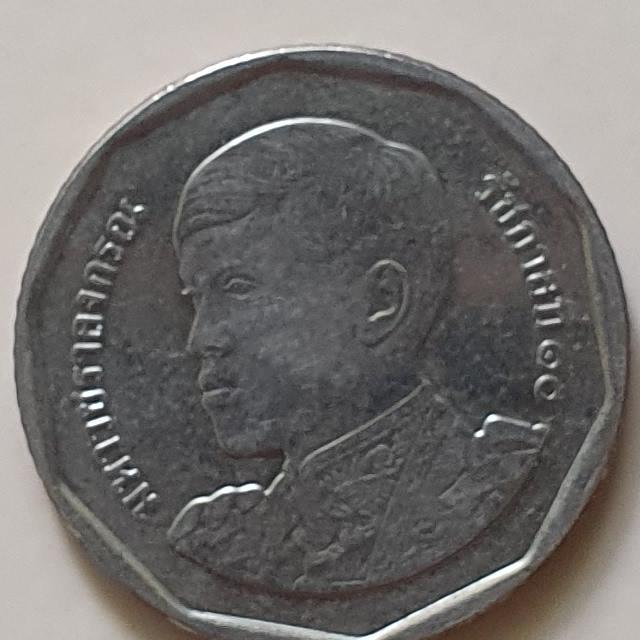5 Bath: (11, 34, 640, 640)
